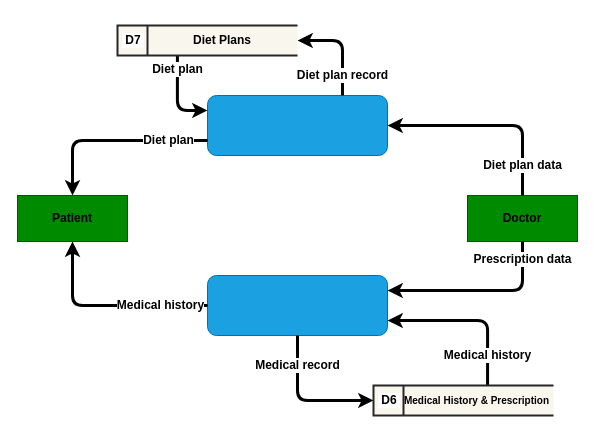
The diagram is 598 pixels wide and 434 high, and some of its shapes have lost their labels. Each missing label, with the box of its shape:
4.0 Record Medical Data: (206, 274, 388, 336)
5.0 Manage Diet Plans: (206, 94, 388, 156)
